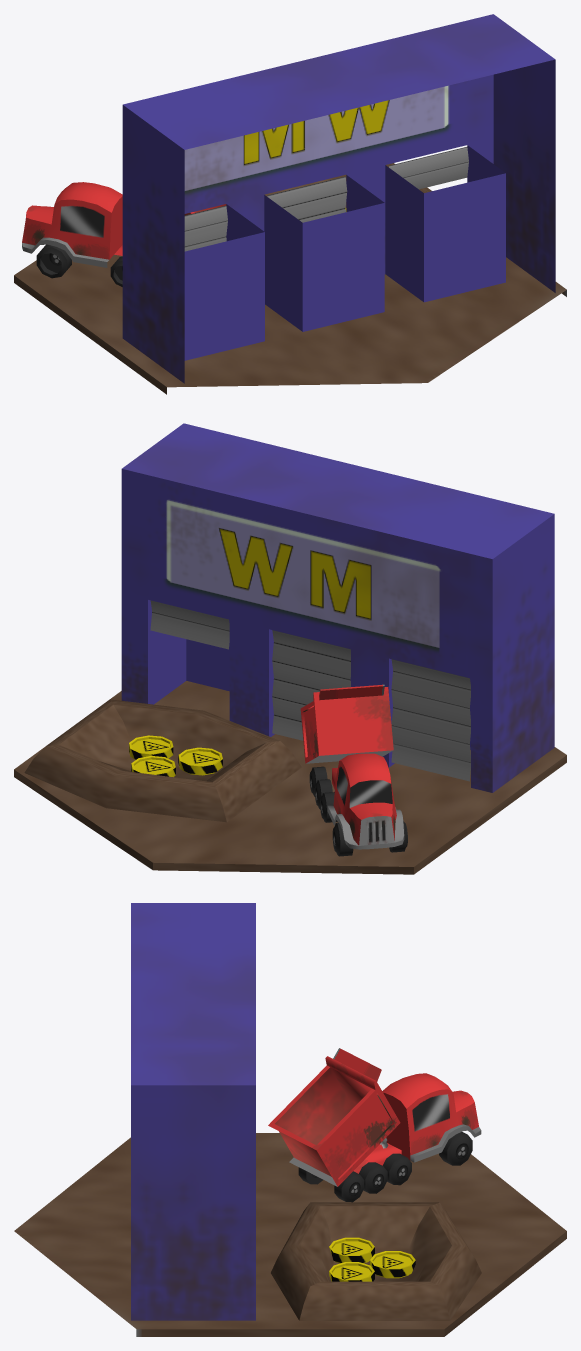
Rendered from WasteManagementFacility.fbx.
3 views of the same model, one above another, from view 1: azimuth 30°, elevation 25°; view 2: azimuth 150°, elevation 25°; view 3: azimuth 270°, elevation 25° (orthographic).
Visible parts, largest first — view 1: polySurface3, pCube4, polySurface13, pPlane2, pPlane1, pPlane3; view 2: polySurface3, pCube4, pCube1, polySurface13, pPlane3, pPlane2, pPlane1, pCylinder6, pCylinder007, pCylinder008; view 3: polySurface3, pCube4, polySurface13, pCube1, pCylinder008, pCylinder6, pCylinder007.
Part boxes in pixels (x1=…): polySurface3: x1=122, y1=14, x2=555, y2=383; pCube4: x1=14, y1=254, x2=566, y2=394; polySurface13: x1=22, y1=182, x2=226, y2=286; pPlane2: x1=267, y1=176, x2=347, y2=222; pPlane1: x1=389, y1=147, x2=468, y2=189; pPlane3: x1=184, y1=205, x2=227, y2=251; polySurface3: x1=121, y1=423, x2=554, y2=792; pCube4: x1=14, y1=681, x2=566, y2=874; pCube1: x1=24, y1=699, x2=301, y2=822; polySurface13: x1=300, y1=684, x2=407, y2=856; pPlane3: x1=391, y1=659, x2=470, y2=781; pPlane2: x1=272, y1=630, x2=350, y2=740; pPlane1: x1=150, y1=600, x2=229, y2=649; pCylinder6: x1=178, y1=747, x2=222, y2=775; pCylinder007: x1=129, y1=735, x2=173, y2=759; pCylinder008: x1=131, y1=756, x2=175, y2=777; polySurface3: x1=131, y1=903, x2=255, y2=1320; pCube4: x1=14, y1=1133, x2=566, y2=1336; polySurface13: x1=268, y1=1048, x2=481, y2=1202; pCube1: x1=271, y1=1202, x2=481, y2=1320; pCylinder008: x1=370, y1=1251, x2=415, y2=1278; pCylinder6: x1=329, y1=1237, x2=374, y2=1263; pCylinder007: x1=329, y1=1262, x2=374, y2=1281.
Size of the model in its own units: 72.84 by 42.33 by 86.68.
